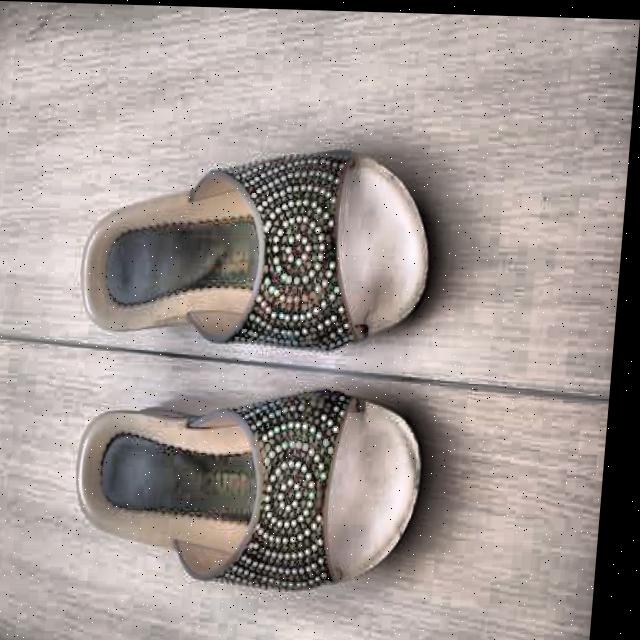shoes: (27, 122, 477, 612)
